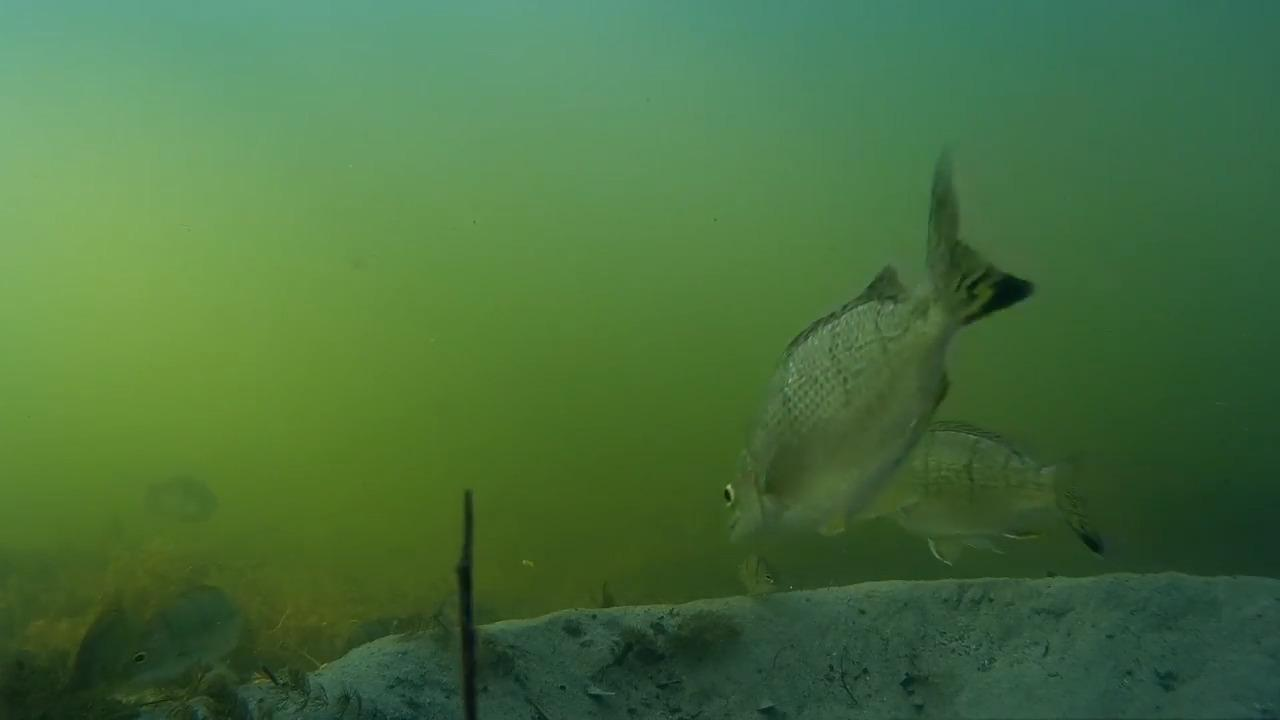Tilapia: (709, 144, 1042, 546), (838, 421, 1123, 552), (113, 576, 277, 708), (137, 466, 219, 538), (724, 544, 791, 608)
